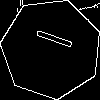I: (26, 23, 74, 51)
